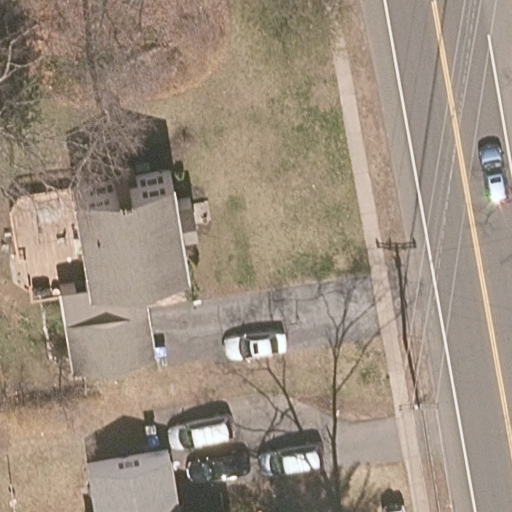DT: (402, 334, 430, 409)
